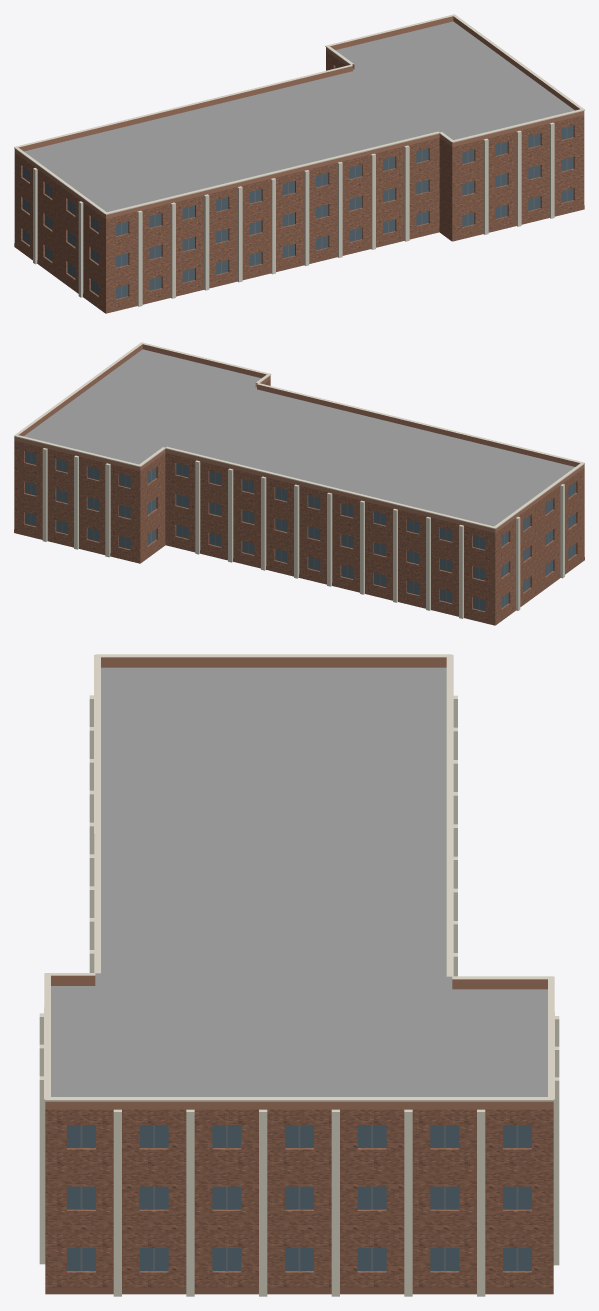
3 renders of one model, top to bottom at view 1: azimuth 30°, elevation 25°; view 2: azimuth 150°, elevation 25°; view 3: azimuth 270°, elevation 25°, orthographic. The views are drawn at different scales.
Visible parts, largest first — view 1: maryHall__roof, maryHall__wall, maryHall__trim, maryHall__glass, maryHall__parapet, maryHall__base, maryHall__frame; view 2: maryHall__roof, maryHall__wall, maryHall__trim, maryHall__glass, maryHall__parapet, maryHall__base, maryHall__frame; view 3: maryHall__roof, maryHall__wall, maryHall__trim, maryHall__glass, maryHall__parapet, maryHall__base, maryHall__frame.
Part boxes in pixels (x1,y1,x2,y2): maryHall__roof: [24, 21, 574, 211]; maryHall__wall: [14, 51, 584, 313]; maryHall__trim: [14, 14, 584, 306]; maryHall__glass: [22, 66, 573, 298]; maryHall__parapet: [14, 16, 584, 218]; maryHall__base: [14, 205, 584, 313]; maryHall__frame: [27, 127, 567, 297]; maryHall__roof: [24, 349, 574, 526]; maryHall__wall: [14, 379, 584, 625]; maryHall__trim: [14, 342, 584, 618]; maryHall__glass: [25, 451, 575, 611]; maryHall__parapet: [14, 344, 584, 532]; maryHall__base: [14, 529, 584, 625]; maryHall__frame: [30, 452, 571, 609]; maryHall__roof: [51, 667, 547, 1096]; maryHall__wall: [45, 1109, 553, 1287]; maryHall__trim: [39, 654, 559, 1296]; maryHall__glass: [67, 1125, 531, 1270]; maryHall__parapet: [45, 657, 553, 1109]; maryHall__base: [45, 1287, 553, 1294]; maryHall__frame: [80, 1125, 518, 1271].
Bounding box in the file's own units: 56.4 × 11.4 × 27.58.
Materials: 7 (1 with a texture image).
